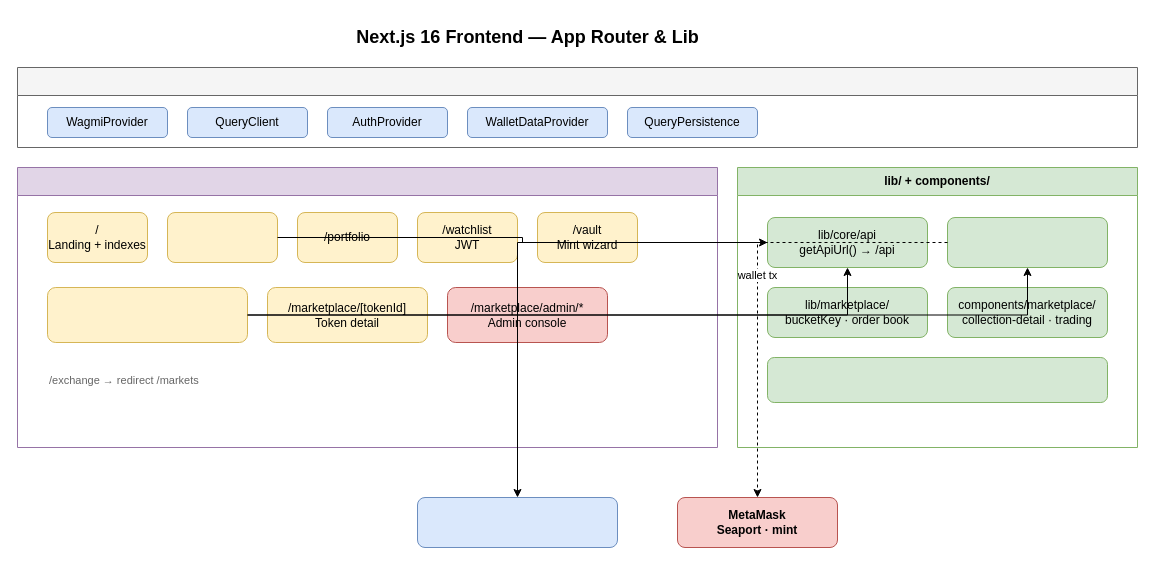
Some shapes in this 1155 by 565 pixel diagram are drawn without their labels. Each missing label, with the box of its shape:
/marketplace/collections/[key] Order book · charts: (46, 286, 248, 342)
/markets Collection list: (166, 212, 278, 262)
app/ — Routes: (16, 166, 718, 448)
Backend API Nginx /api/*: (416, 496, 618, 548)
hooks/ mirrors features TanStack Query keys: rq.*: (766, 356, 1108, 402)
lib/seaport/ orders · criteria · fulfill: (946, 216, 1108, 268)
Providers (root layout): (16, 66, 1138, 148)
